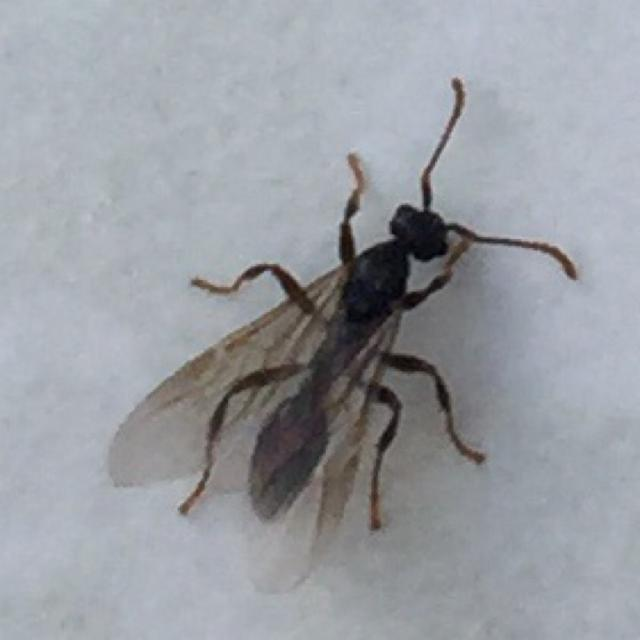Myrmica: (143, 113, 564, 577)
